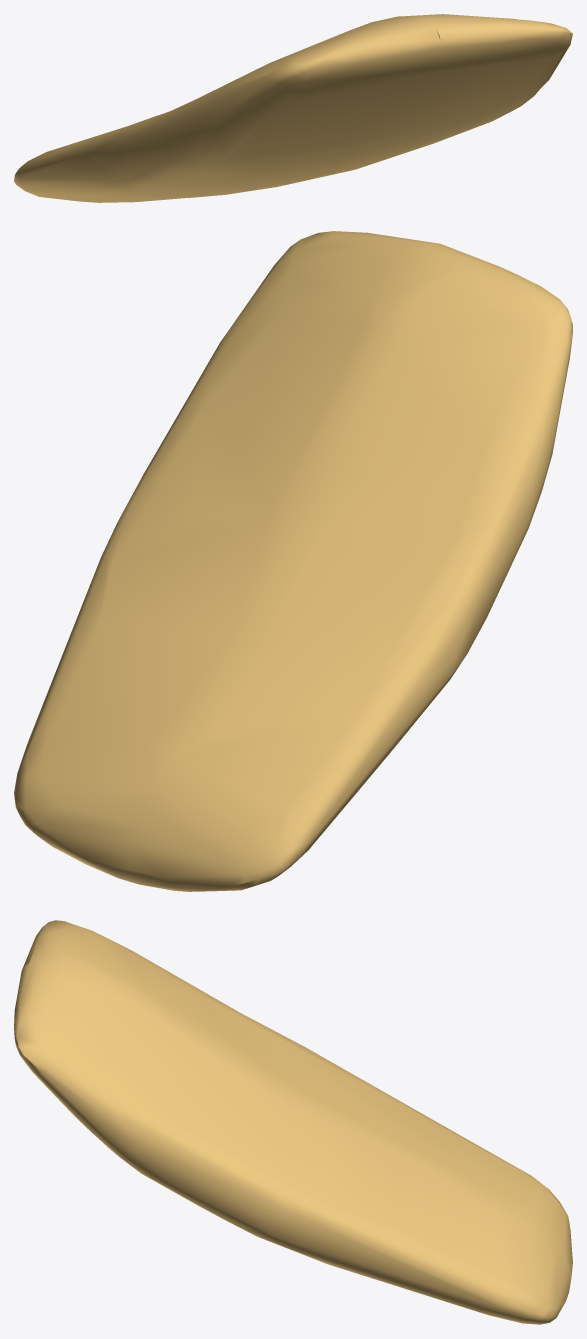
Rendered from nervoso-lingula-of-cerebellum.glb.
3 renders of one model, top to bottom at view 1: azimuth 30°, elevation 25°; view 2: azimuth 150°, elevation 25°; view 3: azimuth 270°, elevation 25°, orthographic. The views are drawn at different scales.
Visible parts, largest first — view 1: Lingula of cerebellum; view 2: Lingula of cerebellum; view 3: Lingula of cerebellum.
Boxes of the visible parts, <box> form: Lingula of cerebellum: <box>14,14,572,202</box>; Lingula of cerebellum: <box>14,231,572,891</box>; Lingula of cerebellum: <box>14,920,572,1324</box>.
Bounding box in the file's own units: 0.0102 × 0.0108 × 0.0161.
